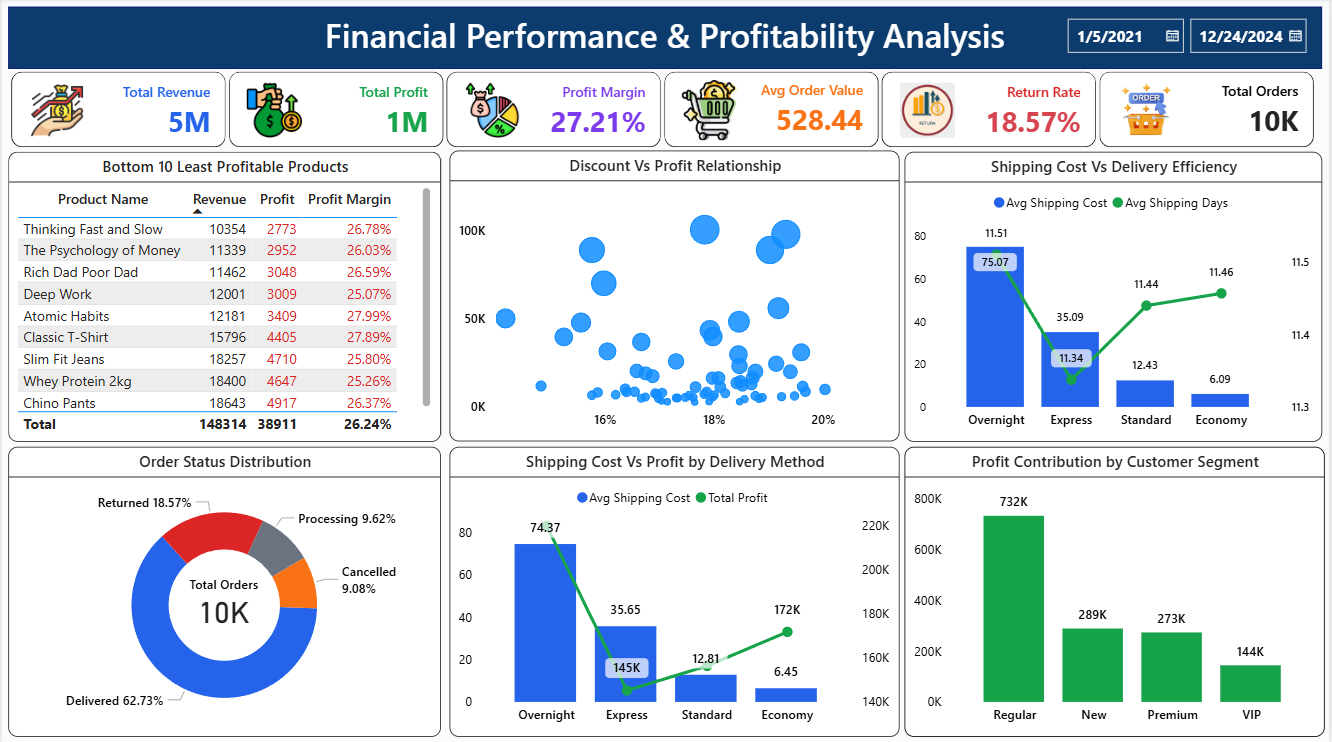

This screenshot's page, from the dashboard's own definition file:
{"tool":"powerbi","page":{"name":"Profitability & Operational Analysis","canvas":[1280,720],"ordinal":1},"visuals":[{"type":"tableEx","title":"Bottom 10 Least Profitable Products","fields":{"Values":["finance orders.ProductName","Sum(finance orders.Revenue)","Sum(finance orders.Profit)","finance orders.Profit Margin"]},"box":[6,148.4,417.4,279.9],"z":0},{"type":"scatterChart","title":"Discount Vs Profit Relationship","fields":{"X":["Avg(finance orders.Discount)"],"Category":["finance orders.ProductName"],"Size":["Sum(finance orders.Revenue)"],"Y":["Sum(finance orders.Profit)"]},"box":[431.9,147.2,434.3,281.1],"z":1000},{"type":"donutChart","title":"Order Status Distribution","fields":{"Category":["finance orders.Order_Status"],"Y":["CountNonNull(finance orders.OrderID)"]},"box":[6,433.1,417.4,279.9],"z":2000},{"type":"lineClusteredColumnComboChart","title":"Shipping Cost Vs Profit by Delivery Method","fields":{"Category":["finance orders.Shipping_Method"],"Y":["finance orders.Avg Shipping Cost"],"Y2":["finance orders.Total Profit"]},"box":[431.9,433.1,434.3,279.9],"z":3000},{"type":"textbox","box":[6,8.4,1268,60.3],"z":7000},{"type":"columnChart","title":"Profit Contribution by Customer Segment","fields":{"Category":["finance orders.Segment"],"Y":["Sum(finance orders.Profit)"]},"box":[871.1,433.1,405.4,279.9],"z":8000},{"type":"lineClusteredColumnComboChart","title":"Shipping Cost Vs Delivery Efficiency","fields":{"Category":["finance orders.Shipping_Method"],"Y":["Avg(finance orders.Shipping_Cost)"],"Y2":["Avg(finance orders.Shipping_Days)"]},"box":[871.1,148.4,403,279.9],"z":9000},{"type":"slicer","title":"Years","fields":{"Values":["finance orders.OrderDate"]},"box":[1015.8,9.7,264.2,54.3],"z":10000},{"type":"cardVisual","fields":{"Data":["finance orders.Total Revenue","finance orders.Total Profit","finance orders.Profit Margin","finance orders.Avg Order Value","finance orders.Return Rate","finance orders.Total Orders"]},"box":[0,56.7,1280,101.3],"z":11000},{"type":"card","title":"Total Orders","fields":{"Values":["finance orders.Total Orders"]},"box":[141.2,557.4,146,51.9],"z":11001}]}

Visuals, with their boxes in screenshot pixels (x1, y1, x2, y2), scaled from the page's 1280x720 canvas onto the 1332x742 screenshot:
"Bottom 10 Least Profitable Products" tableEx: x1=6, y1=153, x2=441, y2=441
"Discount Vs Profit Relationship" scatterChart: x1=449, y1=152, x2=901, y2=441
"Order Status Distribution" donutChart: x1=6, y1=446, x2=441, y2=735
"Shipping Cost Vs Profit by Delivery Method" lineClusteredColumnComboChart: x1=449, y1=446, x2=901, y2=735
textbox: x1=6, y1=9, x2=1326, y2=71
"Profit Contribution by Customer Segment" columnChart: x1=906, y1=446, x2=1328, y2=735
"Shipping Cost Vs Delivery Efficiency" lineClusteredColumnComboChart: x1=906, y1=153, x2=1326, y2=441
"Years" slicer: x1=1057, y1=10, x2=1331, y2=66
cardVisual - finance orders.Total Revenue x finance orders.Total Profit: x1=0, y1=58, x2=1331, y2=163
"Total Orders" card: x1=147, y1=574, x2=299, y2=628
